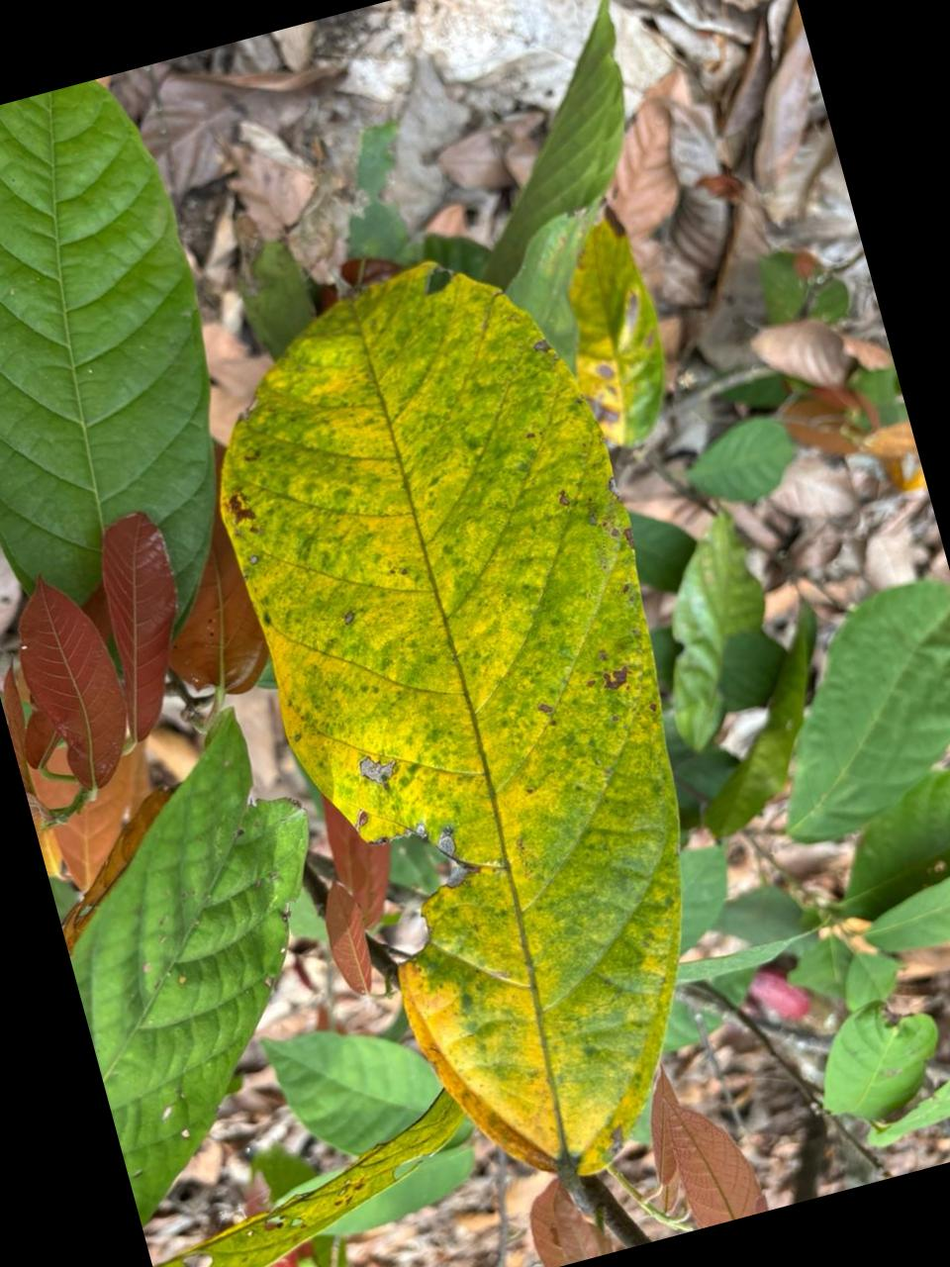Fosforo: (223, 267, 680, 1173)
